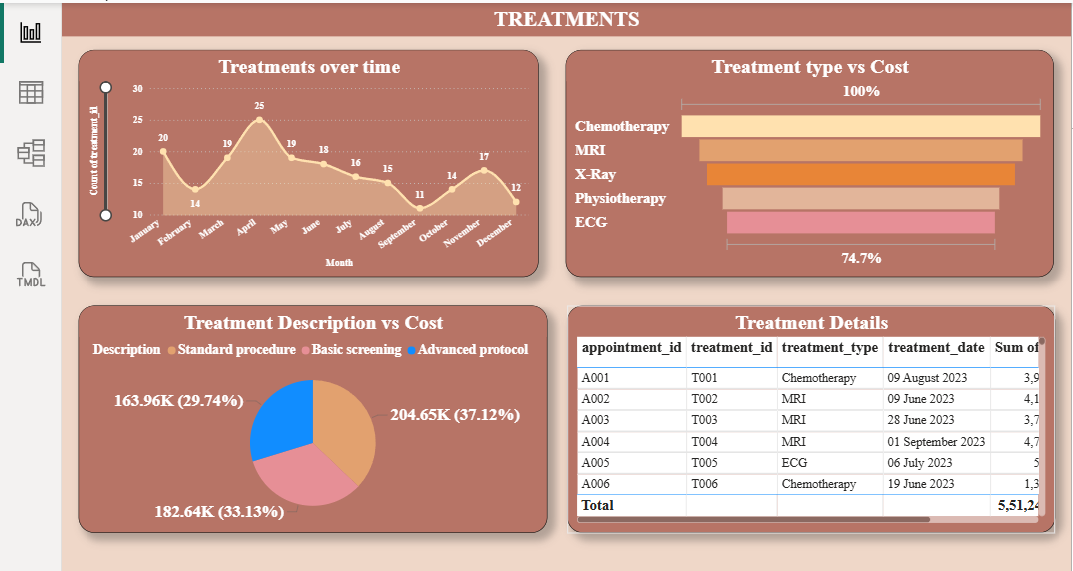

Layout of this report page (visuals, bound fields, positions):
{"tool":"powerbi","page":{"name":" Page 5","canvas":[1280,720],"ordinal":4},"visuals":[{"type":"textbox","box":[0,0,1280.3,42.5],"z":0},{"type":"lineChart","title":"Treatments over time","fields":{"Category":["Treatments.treatment_date.Variation.Date Hierarchy.Month"],"Y":["CountNonNull(Treatments.treatment_id)"]},"box":[20.6,60.4,583.2,288.2],"z":1000},{"type":"funnel","title":"Treatment type vs Cost","fields":{"Category":["Treatments.treatment_type"],"Y":["Sum(Treatments.cost)"]},"box":[639.5,60.4,618.9,288.2],"z":2000},{"type":"pieChart","title":"Treatment Description vs Cost","fields":{"Y":["Sum(Treatments.cost)"],"Category":["Treatments.description"]},"box":[20.6,384.2,594.2,288.2],"z":4001},{"type":"tableEx","title":"Treatment Details","fields":{"Values":["Treatments.appointment_id","Treatments.treatment_id","Treatments.treatment_type","Treatments.treatment_date","Sum(Treatments.cost)","Treatments.description"]},"box":[640.8,384.2,618.9,288.2],"z":4002}]}

Visuals, with their boxes on the page's 1280x720 design canvas (x1, y1, x2, y2). These are canvas units, not pixel positions in the 1073x571 screenshot, which may show the page scaled, cropped or inside an application window:
textbox: 0/0/1280/42
"Treatments over time" lineChart: 21/60/604/349
"Treatment type vs Cost" funnel: 640/60/1258/349
"Treatment Description vs Cost" pieChart: 21/384/615/672
"Treatment Details" tableEx: 641/384/1260/672
